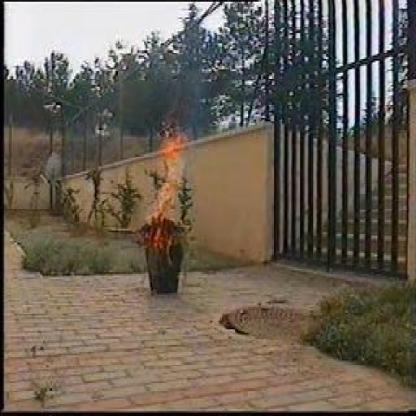-: (183, 97, 211, 128)
foggia-v2-map80-epoch100 - v1 4323: (142, 130, 176, 241)
